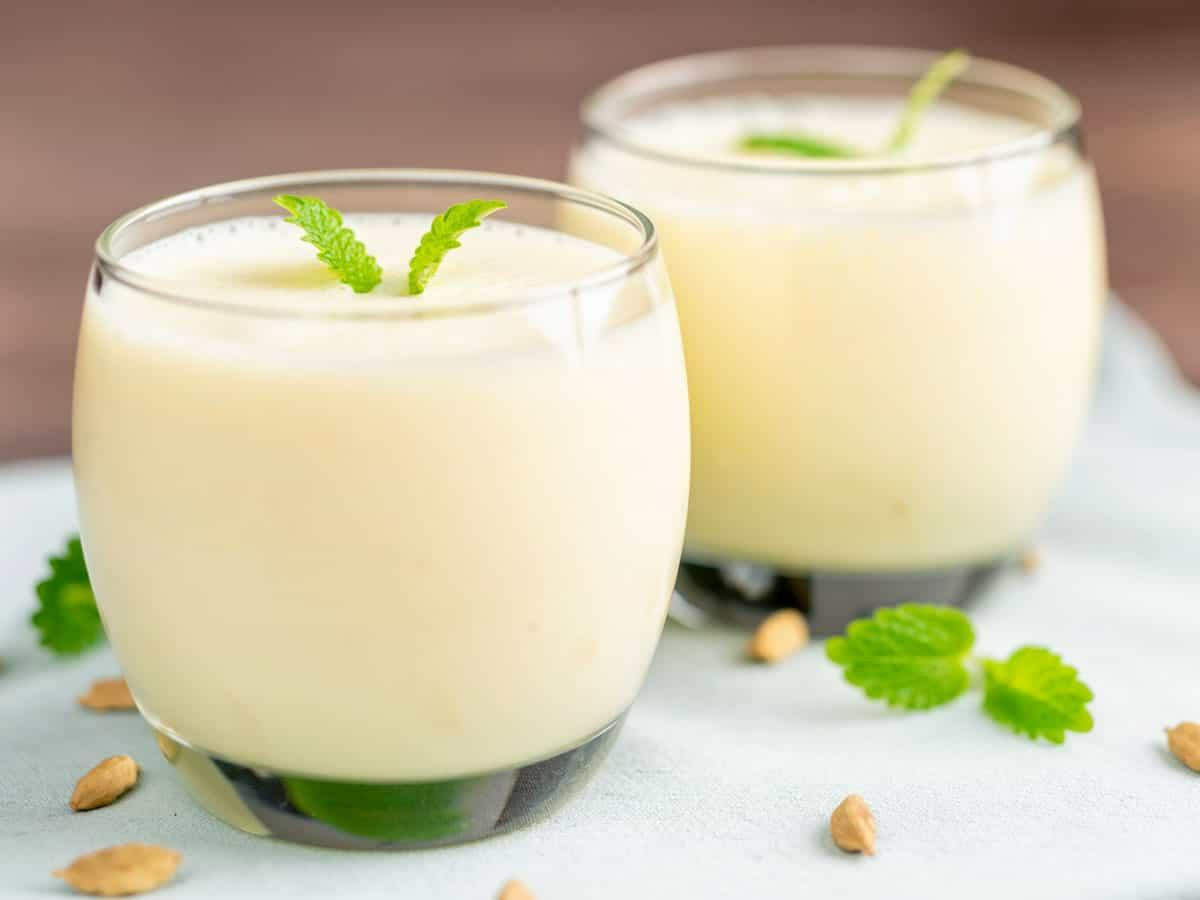Lassi: (73, 211, 689, 780), (553, 90, 1107, 566)
